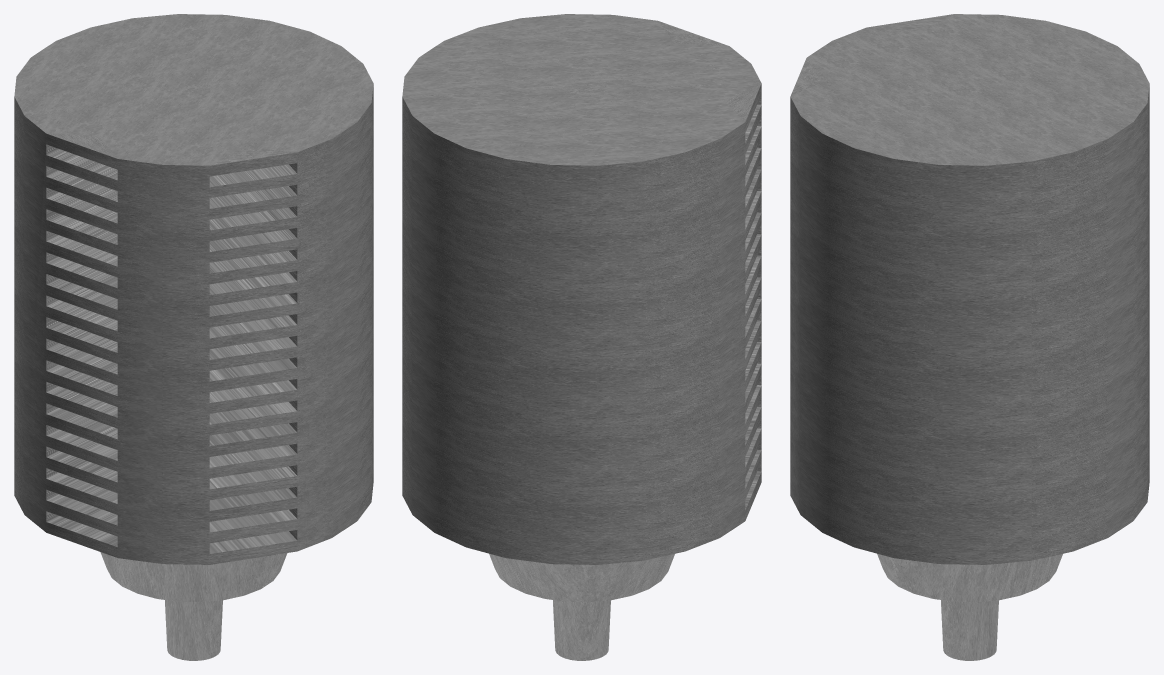
The model's file is supermaszyna_gora.FBX.
3 renders of one model, left to right at view 1: azimuth 30°, elevation 25°; view 2: azimuth 150°, elevation 25°; view 3: azimuth 270°, elevation 25°, orthographic.
Parts seen in each view (by area): view 1: Object001; view 2: Object001; view 3: Object001.
Part boxes in pixels (bbox=[...]): Object001: bbox=[14, 14, 373, 660]; Object001: bbox=[402, 14, 761, 660]; Object001: bbox=[790, 14, 1149, 660].
Size of the model in its own units: 3.24 by 5.57 by 3.24.
Materials: 1 (1 with a texture image).
